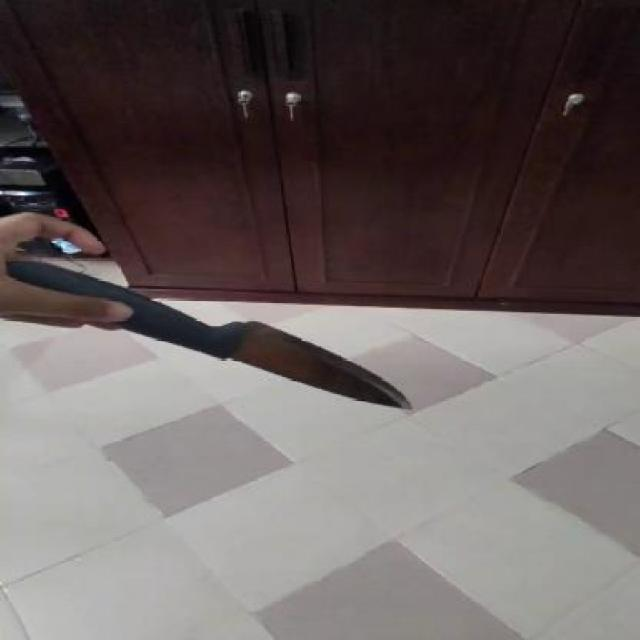-: (183, 299, 442, 423)
